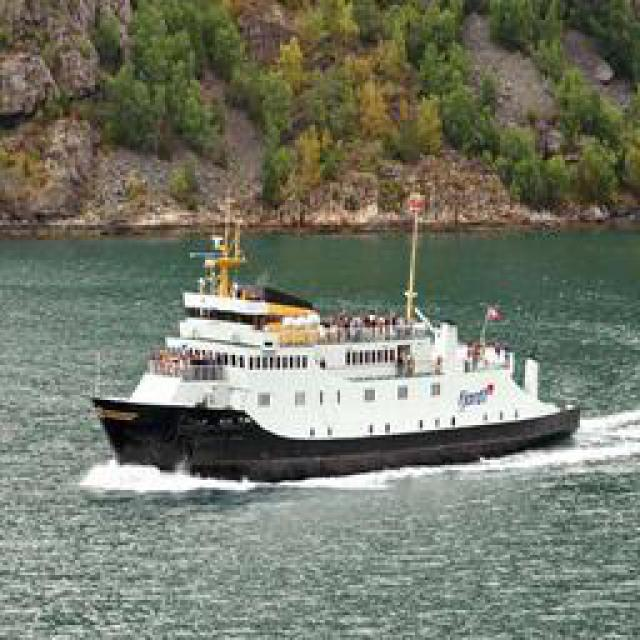Ship: (85, 191, 580, 476)
